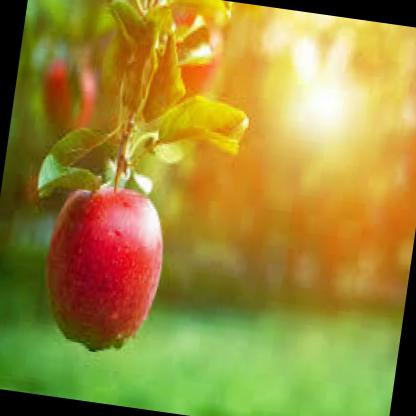apple: (37, 160, 177, 361)
